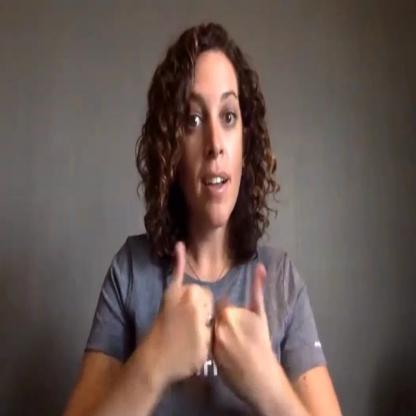HowAreYou: (152, 232, 287, 416)
